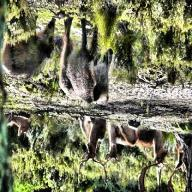boar: (67, 34, 120, 119), (12, 35, 66, 91)
